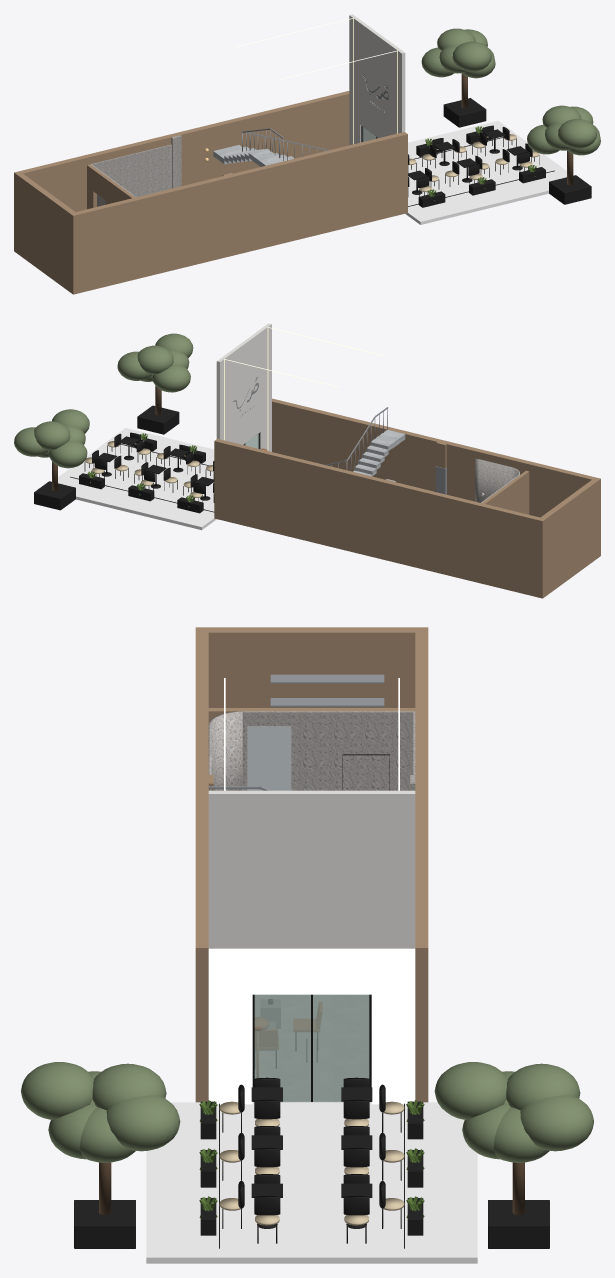
The model's file is walk-ground.a6c6d20c84.glb.
3 views of the same model, one above another, from view 1: azimuth 30°, elevation 25°; view 2: azimuth 150°, elevation 25°; view 3: azimuth 270°, elevation 25° (orthographic). The views are drawn at different scales.
Parts seen in each view (by area): view 1: wall_side_b, wall_side_t, out_floor, wall_back, fw_top, zclad, fw_right, fw_left, canopy.012, canopy.005, tree_box.001, tree_box (+8 smaller); view 2: wall_side_t, wall_side_b, out_floor, wall_back, fw_top, fw_left, fw_right, zebra_curve, part, tree_box, tree_box.001, canopy.009 (+7 smaller); view 3: out_floor, fw_top, wall_back, door_glass, zclad_part, floor_marble, fw_left, fw_right, neon_left, neon_right, wall_side_b, wall_side_t (+18 smaller).
Part boxes in pixels (x1,y1,x2,y2): wall_side_b: [76, 132, 407, 293]; wall_side_t: [20, 91, 349, 211]; out_floor: [405, 121, 566, 224]; wall_back: [14, 171, 78, 294]; fw_top: [360, 22, 393, 137]; zclad: [91, 144, 171, 196]; fw_right: [349, 14, 363, 145]; fw_left: [390, 45, 405, 134]; canopy.012: [452, 41, 491, 71]; canopy.005: [558, 119, 596, 148]; tree_box.001: [443, 98, 486, 127]; tree_box: [549, 175, 591, 204]; wall_side_t: [214, 439, 539, 596]; wall_side_b: [272, 398, 594, 517]; out_floor: [58, 428, 216, 530]; wall_back: [537, 477, 600, 598]; fw_top: [228, 331, 260, 444]; fw_left: [258, 323, 271, 451]; fw_right: [216, 353, 230, 441]; zebra_curve: [475, 458, 519, 502]; part: [493, 470, 529, 514]; tree_box: [137, 405, 179, 434]; tree_box.001: [34, 481, 75, 510]; canopy.009: [34, 421, 70, 450]; out_floor: [146, 1102, 477, 1263]; fw_top: [252, 790, 371, 948]; wall_back: [195, 627, 428, 707]; door_glass: [254, 994, 369, 1101]; zclad_part: [242, 711, 413, 790]; floor_marble: [253, 995, 371, 1102]; fw_left: [208, 790, 252, 948]; fw_right: [371, 790, 415, 948]; neon_left: [208, 948, 252, 1104]; neon_right: [371, 948, 415, 1104]; wall_side_b: [195, 632, 208, 1102]; wall_side_t: [415, 632, 428, 1102].
Size of the model in its own units: 22.08 by 6.72 by 11.08.
Materials: 43 (3 with a texture image).
